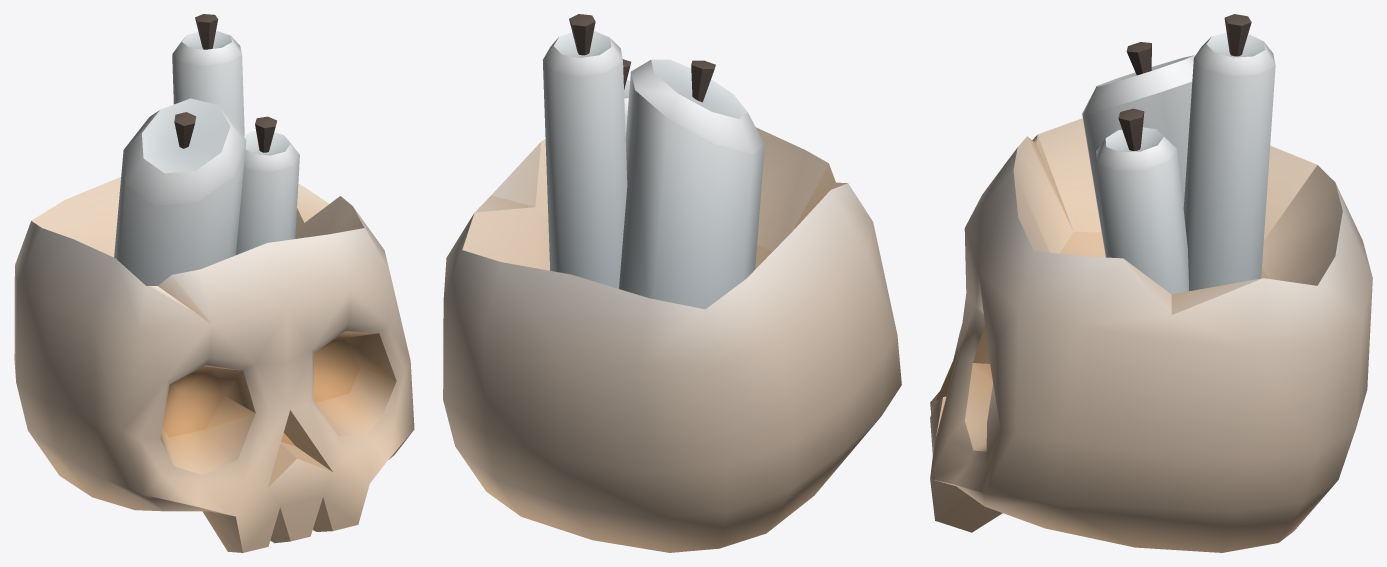
The model's file is skull_candle.glb.
The picture shows the model from 3 angles, left to right: view 1: azimuth 30°, elevation 25°; view 2: azimuth 150°, elevation 25°; view 3: azimuth 270°, elevation 25°; orthographic projection. The views are drawn at different scales.
Visible parts, largest first — view 1: skull_candle; view 2: skull_candle; view 3: skull_candle.
Part boxes in pixels (box(x1,y1,x2,y2)): skull_candle: box(14, 14, 414, 552); skull_candle: box(443, 14, 901, 552); skull_candle: box(930, 14, 1372, 552).
Size of the model in its own units: 0.9176 by 1.19 by 0.9361.
Materials: 1 (1 with a texture image).
